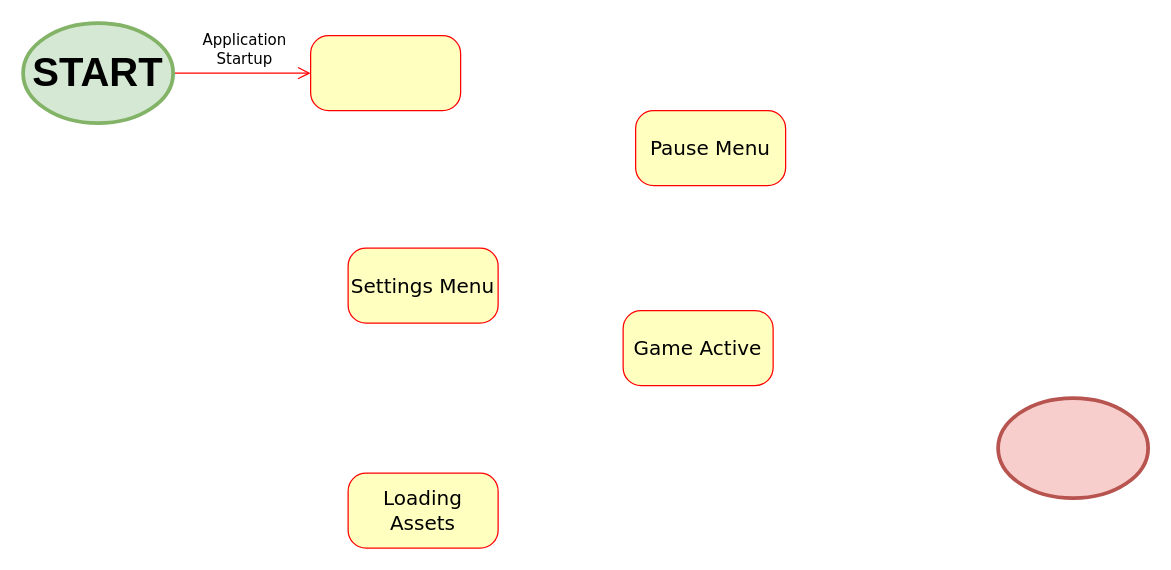
The diagram is 1171 pixels wide and 570 high, and some of its shapes have lost their labels. Each missing label, with the box of its shape:
END: (996, 396, 1149, 499)
Main Menu: (309, 34, 461, 111)
